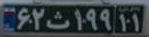1: (71, 7, 85, 31), (130, 10, 141, 33), (117, 11, 128, 33)
2: (31, 6, 47, 32)
6: (15, 5, 32, 32)
9: (84, 7, 100, 32), (99, 7, 113, 32)
ث: (45, 9, 72, 32)
